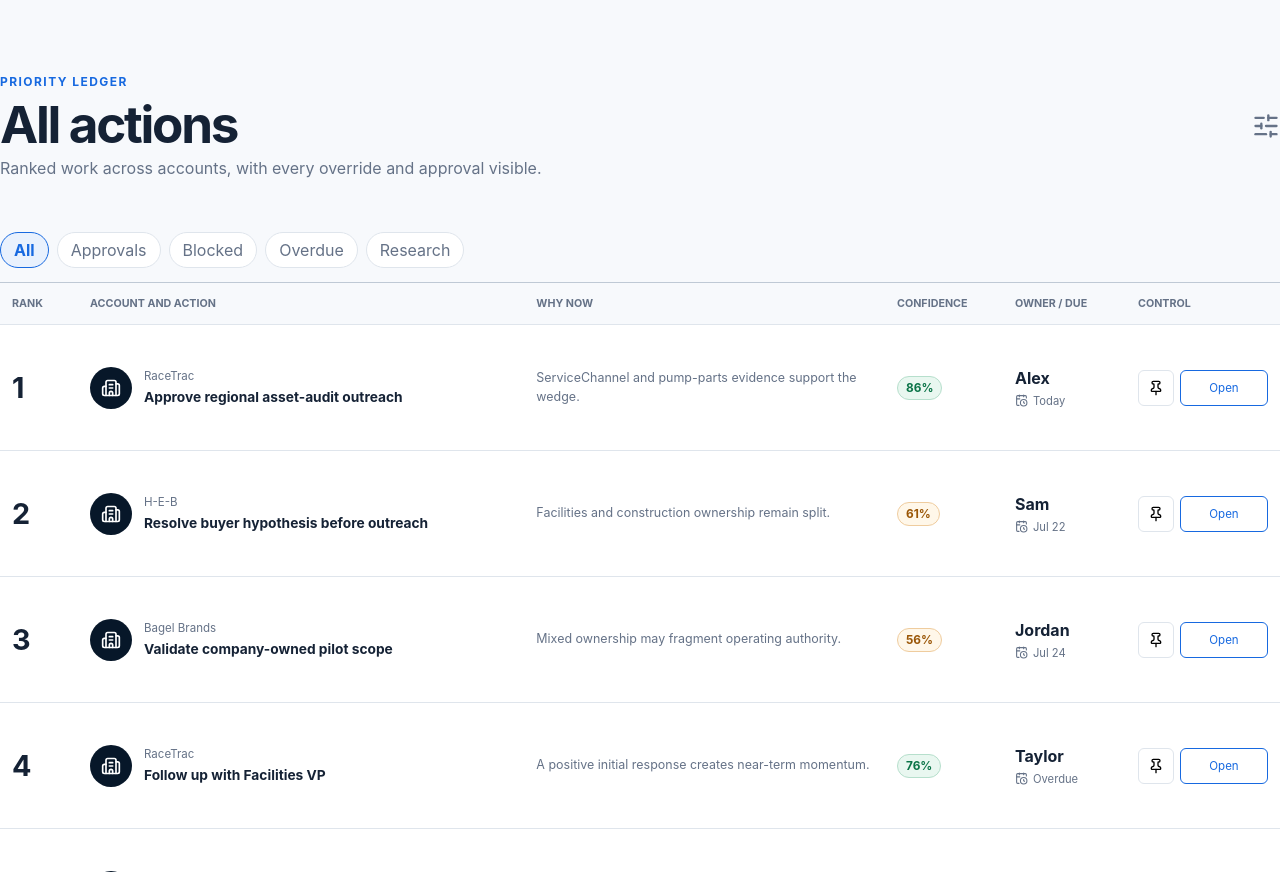
filters the priority ledger and records a reasoned manual pin
The image size is (1280, 872).
Click the button "Approvals".
click(109, 250)  # box [57,232,160,268]
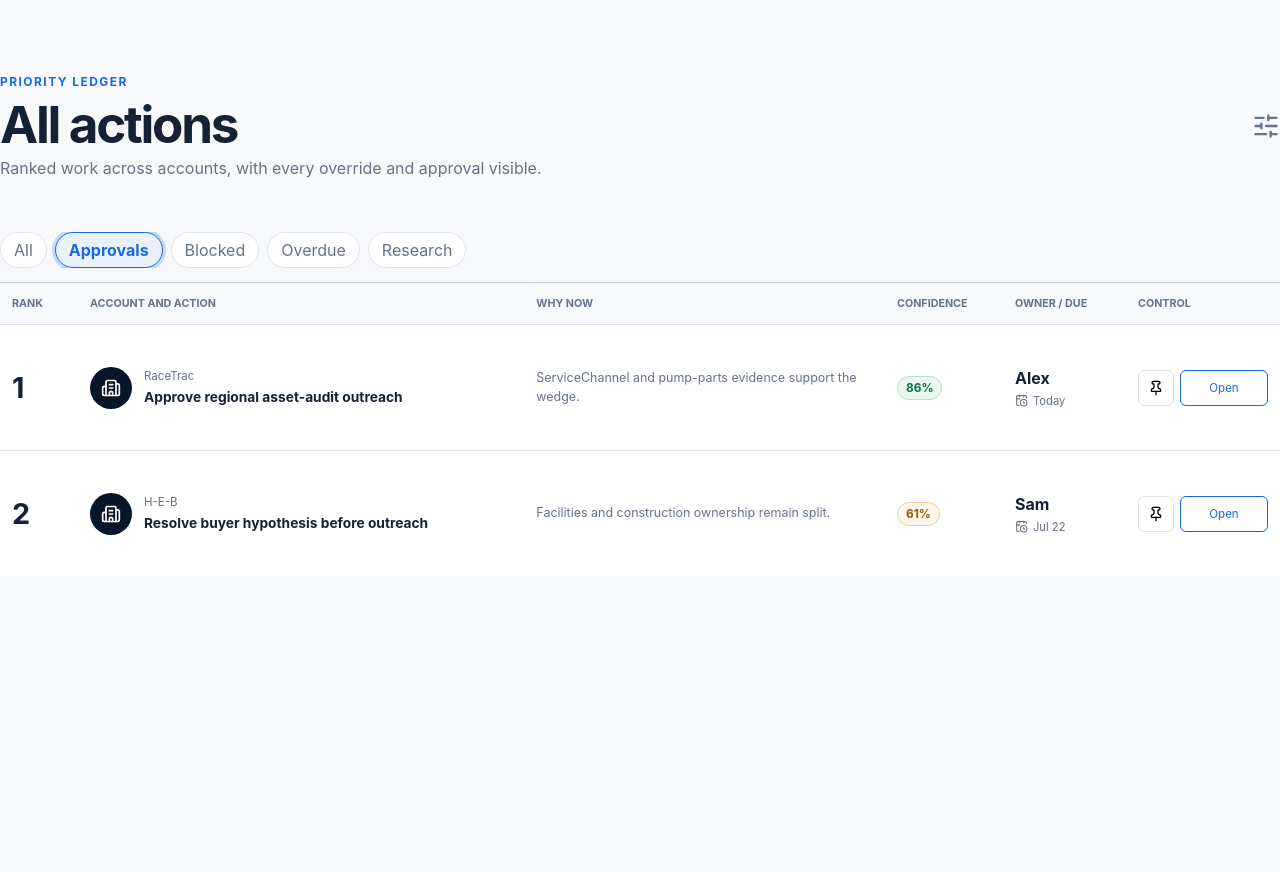
Click the button "All".
click(23, 250)  # box [0,232,47,268]
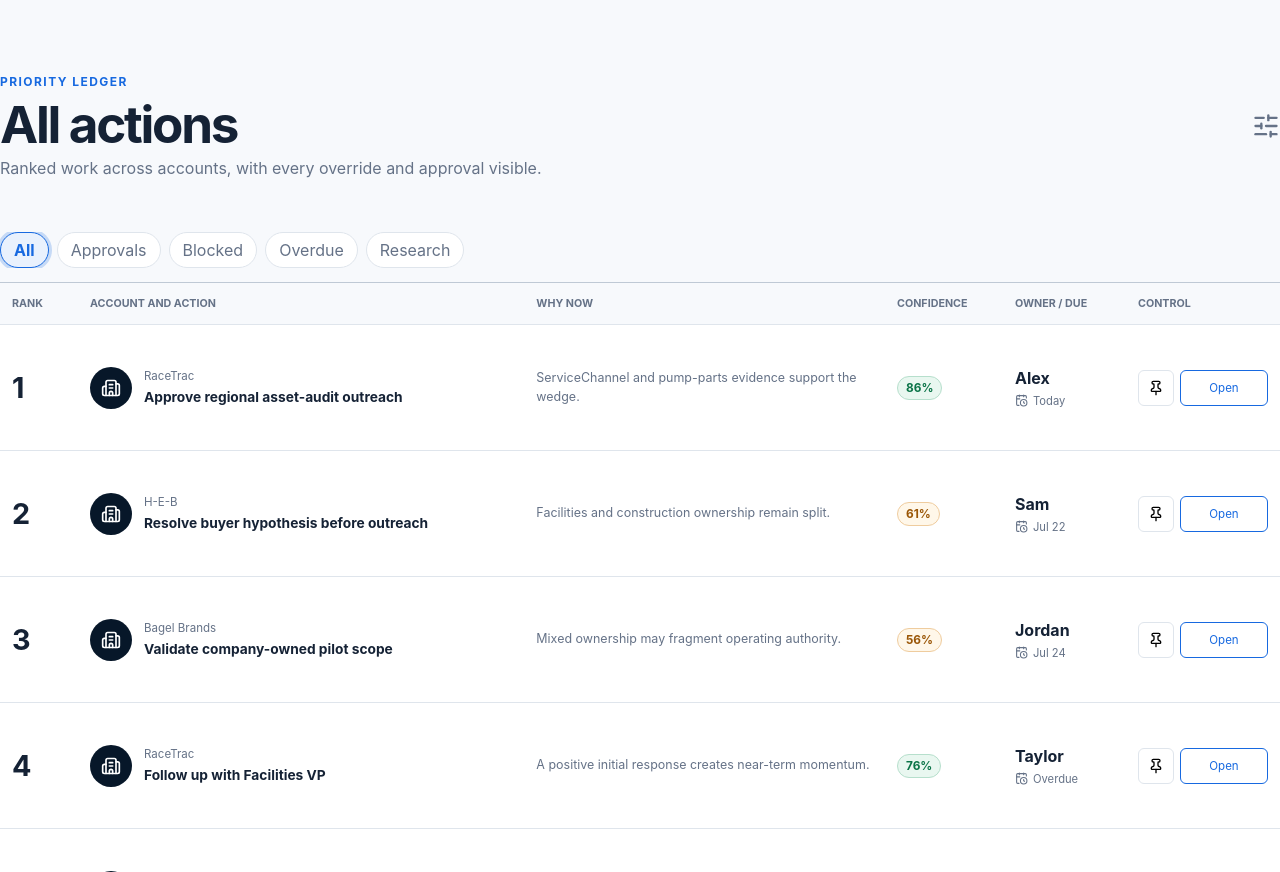
Click the button named "Pin RaceTrac action".
click(1156, 388)  # box [1138,370,1174,406]
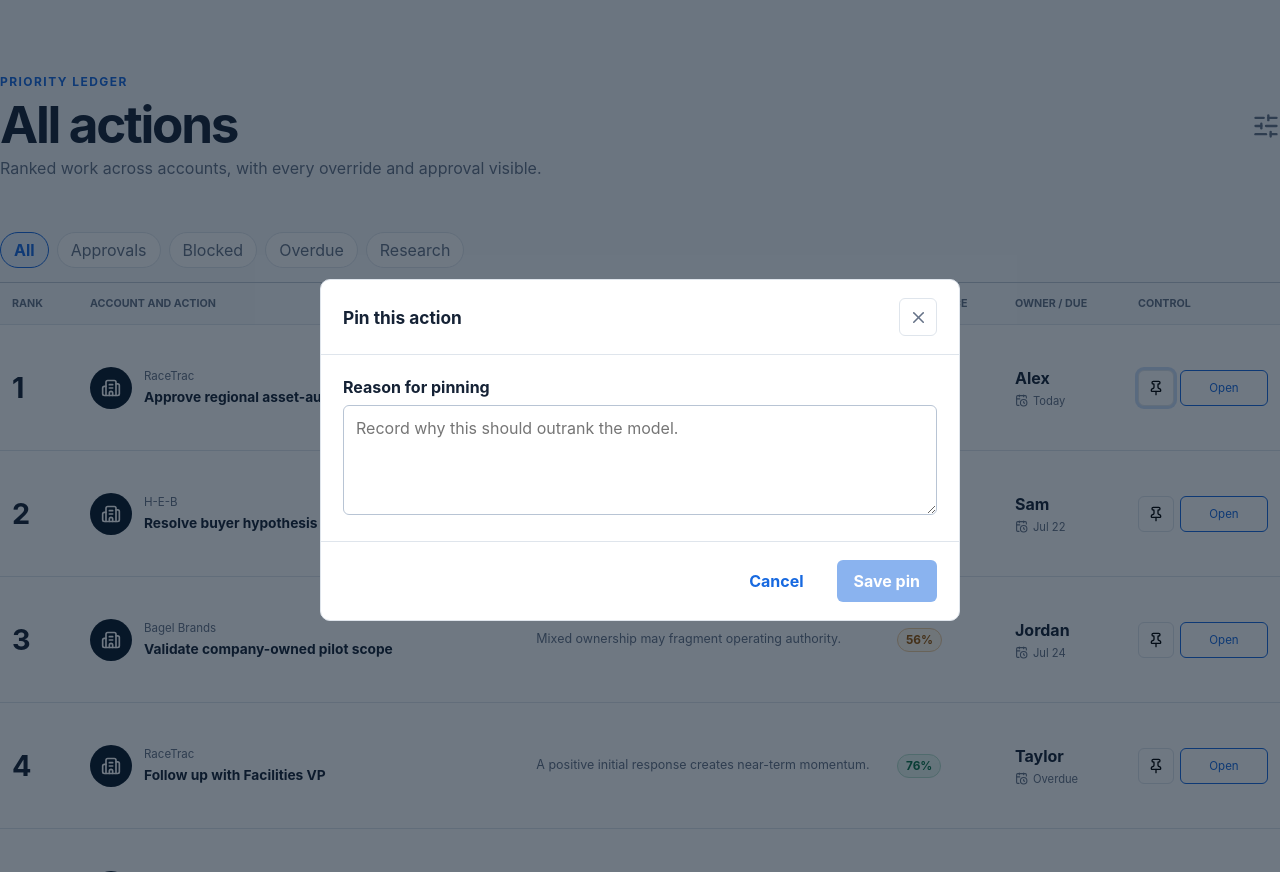
Now the button "Save pin" is disabled, box [836,560,937,602]
Type "Founder priority" into the text box labelled "Reason for pinning".
click(640, 460); type("Founder priority")  # box [343,405,937,515]
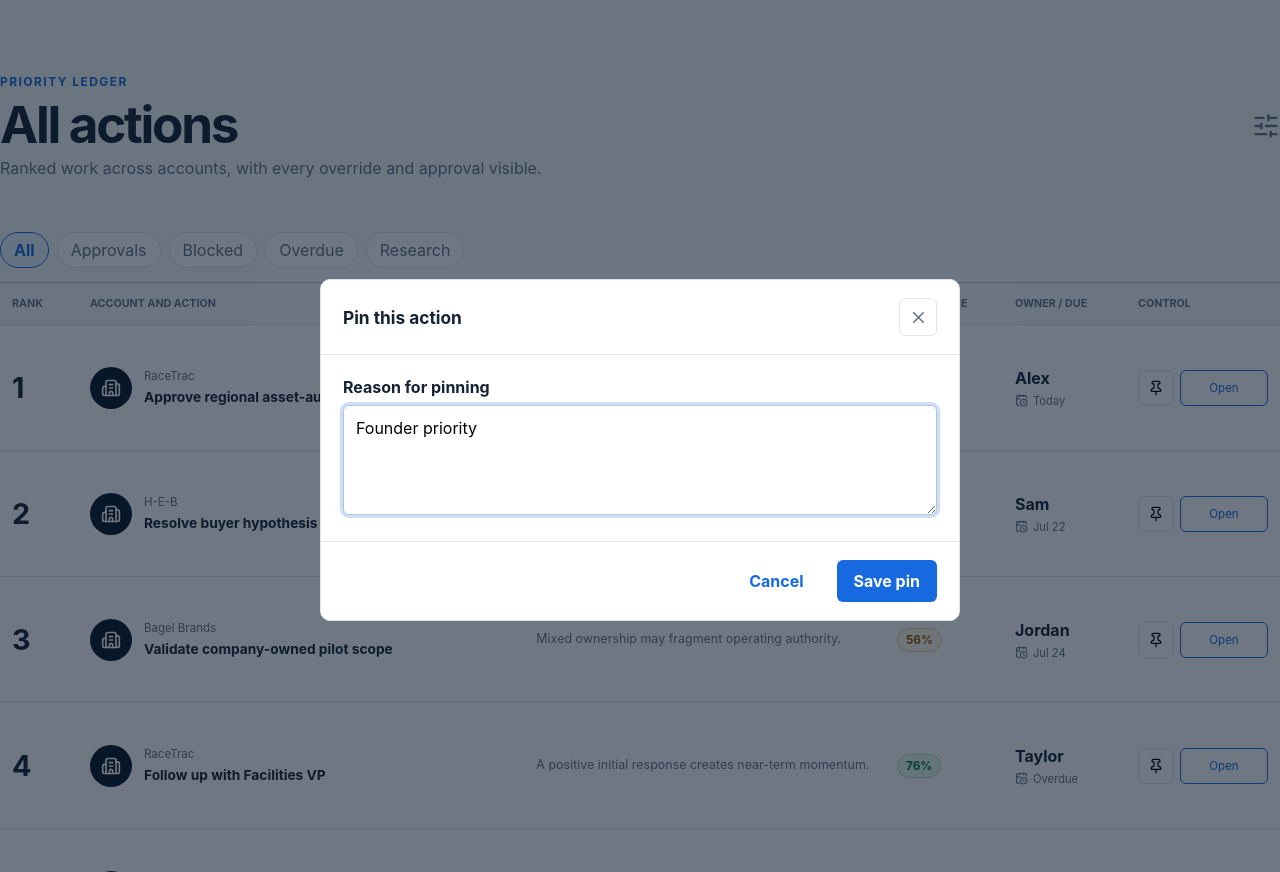
Click the button "Save pin".
click(887, 581)  # box [836,560,937,602]
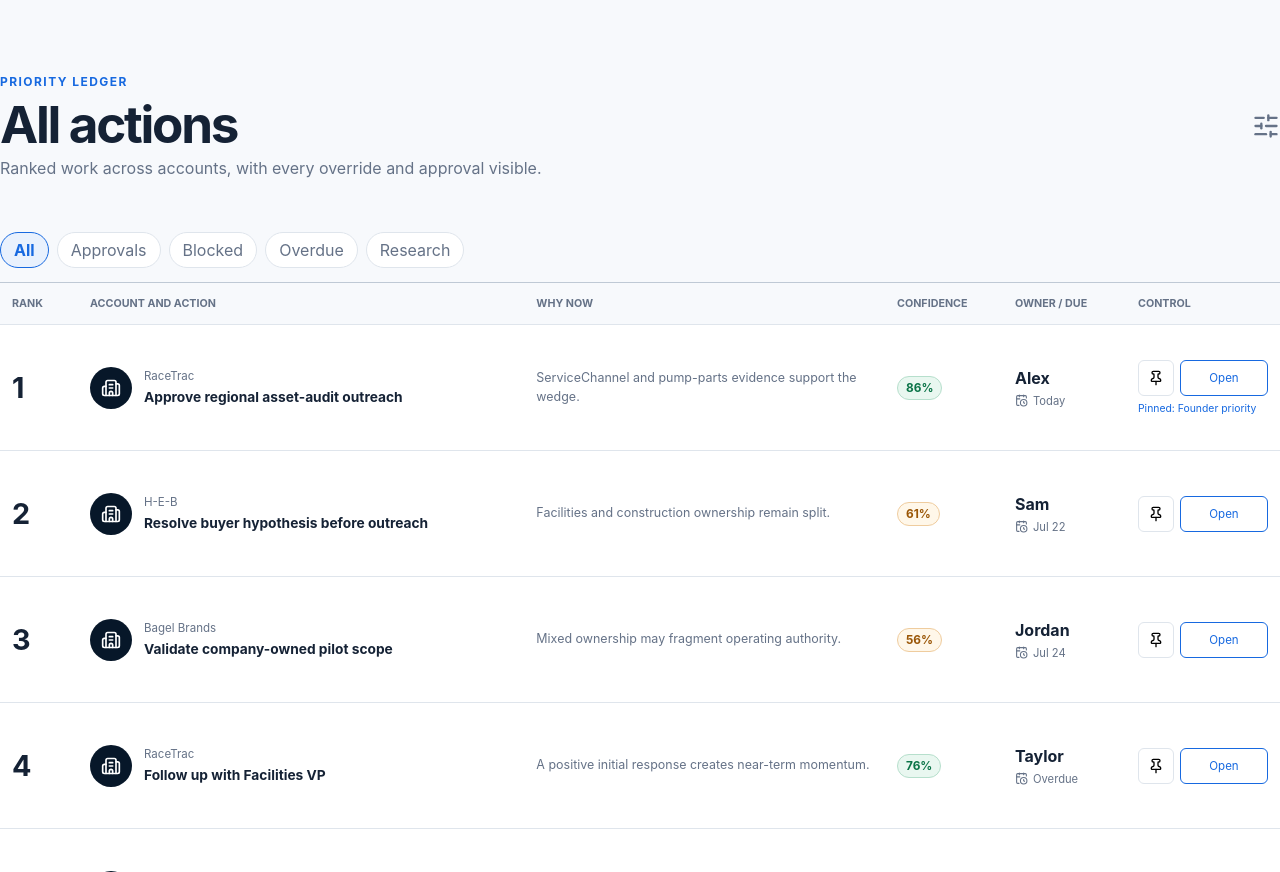
Now the text "Pinned: Founder priority" is shown, box [1138,402,1268,415]
